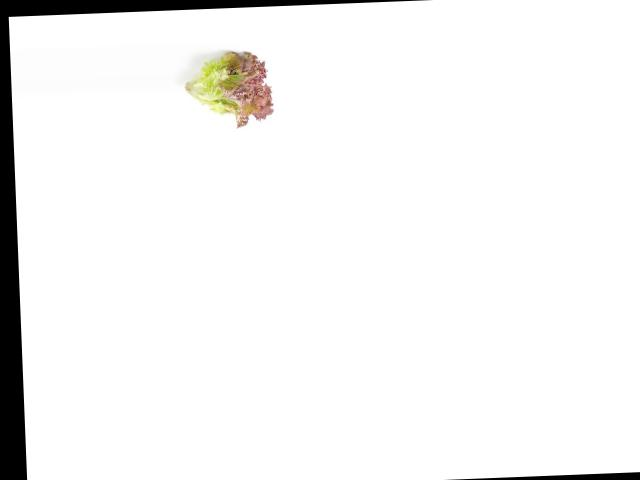lettuce: (172, 47, 278, 127)
